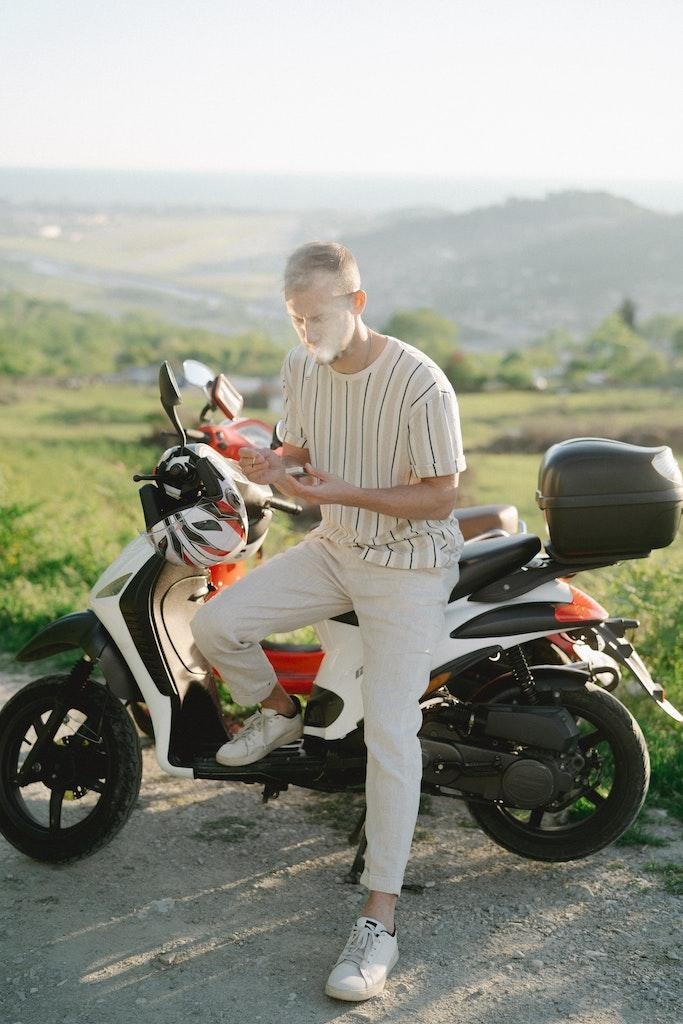helmet: (138, 445, 250, 570)
nohelmet: (282, 239, 368, 382)
